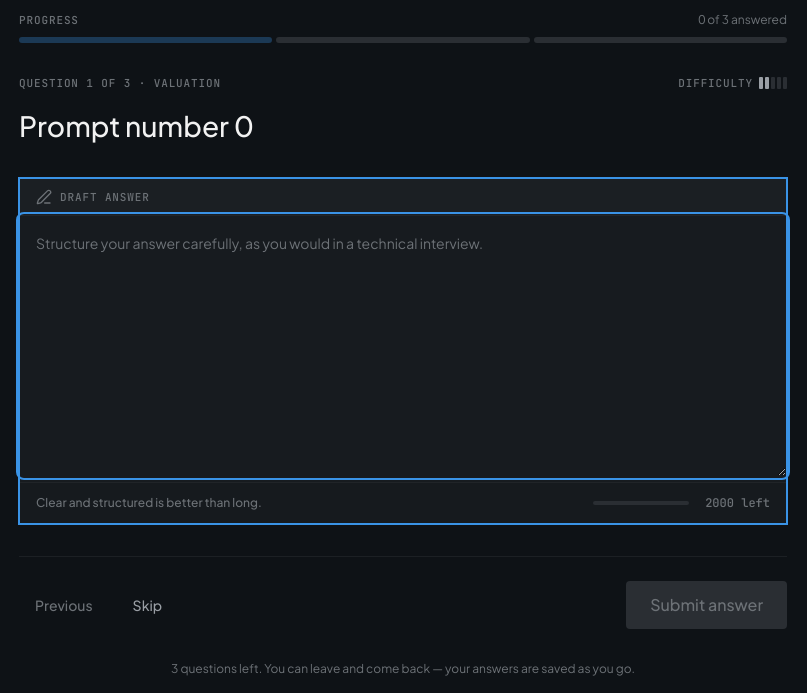
Test: DiagnosticRunner › advances to the next question after a submission
The image size is (807, 693).
Replace the text in the text box labelled "your answer" with "Subtract net debt from enterprise value and add back cash equivalents.". click: {"x": 403, "y": 346}
box: x1=20 y1=216 x2=786 y2=476
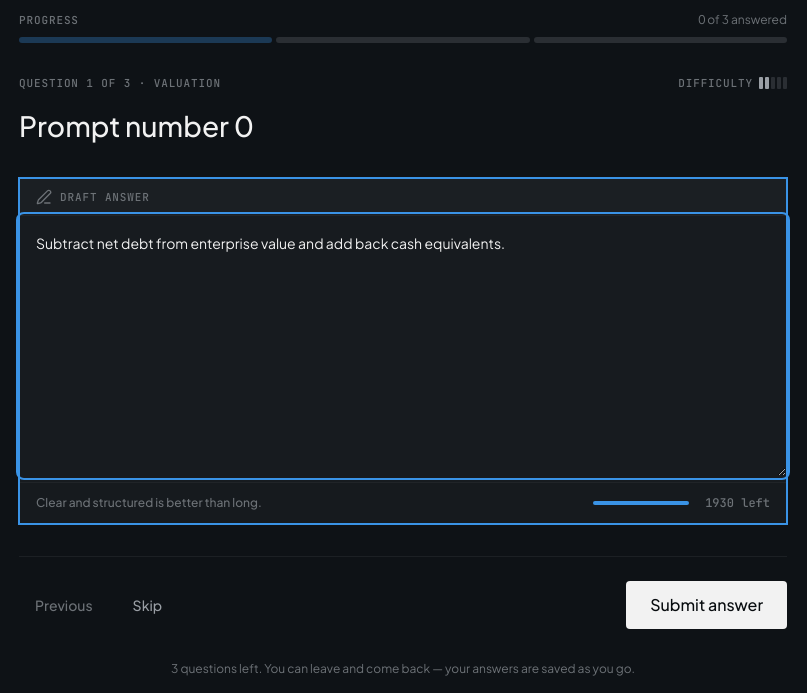
Click the button "Submit answer". click: {"x": 707, "y": 604}
box: x1=626 y1=580 x2=787 y2=628
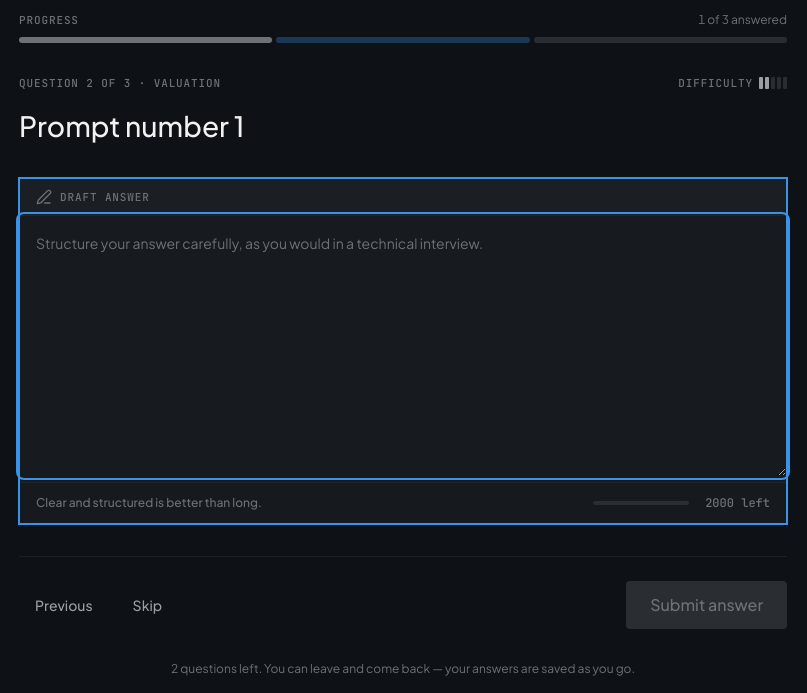
Result: the heading "Prompt number 1" is shown at x1=19 y1=108 x2=244 y2=143
